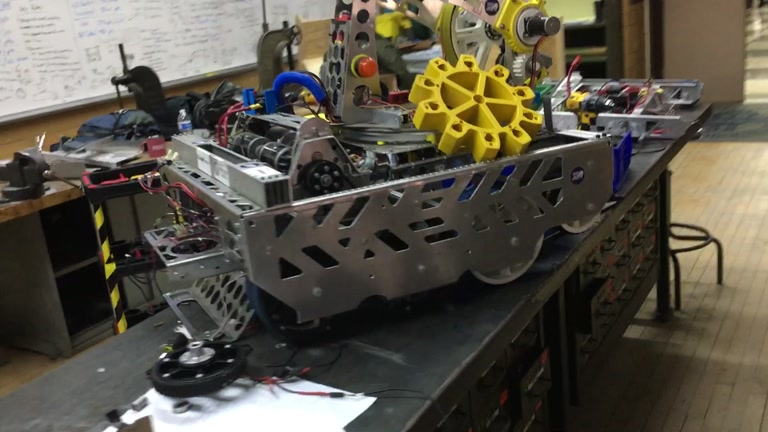gear: (407, 52, 544, 162)
